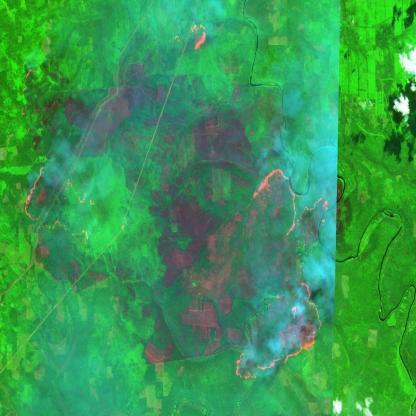fire: (231, 163, 337, 387), (184, 18, 212, 56)
